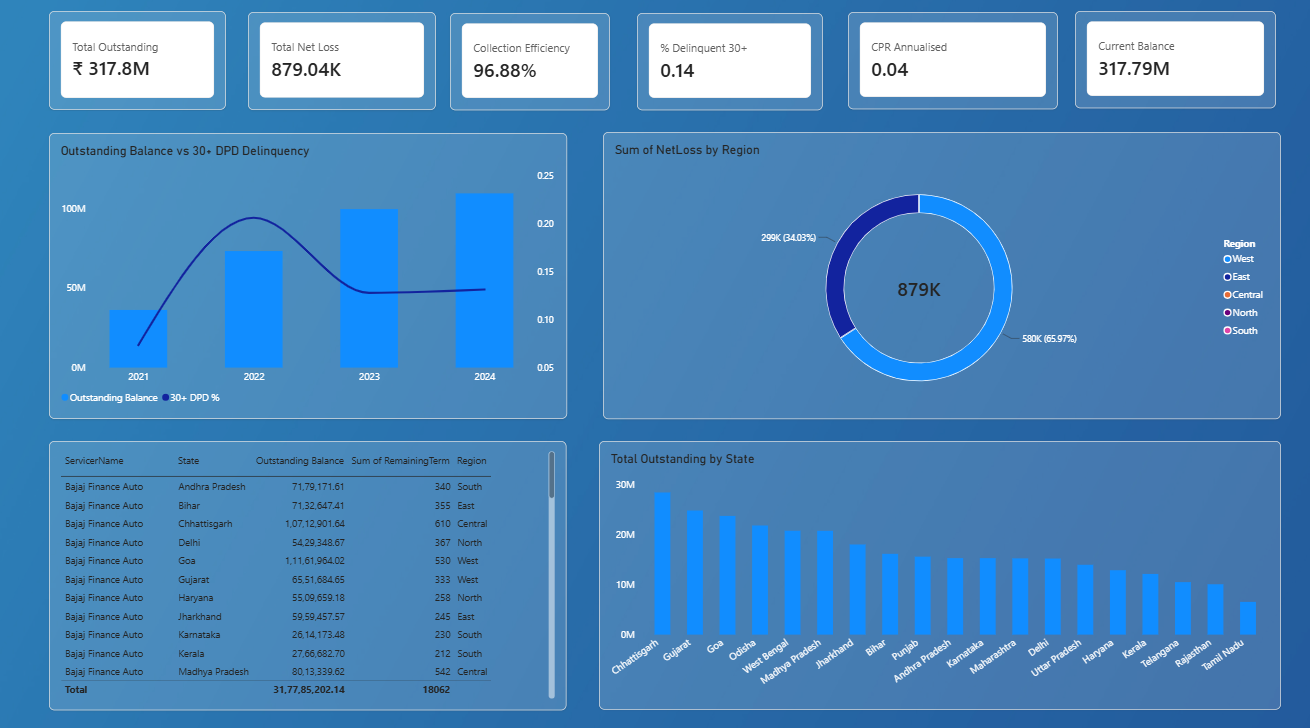

Layout of this report page (visuals, bound fields, positions):
{"tool":"powerbi","page":{"name":"Page 1","canvas":[1920,1080],"ordinal":0},"visuals":[{"type":"lineClusteredColumnComboChart","title":"Outstanding Balance vs 30+ DPD Delinquency","fields":{"Category":["auto_loan_securitisation_data.OriginationDate.Variation.Date Hierarchy.Year","auto_loan_securitisation_data.OriginationDate.Variation.Date Hierarchy.Month"],"Y":["auto_loan_securitisation_data.Outstanding Balance"],"Y2":["auto_loan_securitisation_data.30+ DPD %"]},"box":[72.9,201.3,755.7,417.3],"z":0},{"type":"cardVisual","fields":{"Data":["auto_loan_securitisation_data.Total Net Loss"]},"box":[363.3,24.8,274.3,143],"z":1000},{"type":"cardVisual","fields":{"Data":["auto_loan_securitisation_data.Total Outstanding"]},"box":[72.9,23.3,258.2,144.4],"z":2000},{"type":"cardVisual","fields":{"Data":["auto_loan_securitisation_data.Collection Efficiency"]},"box":[658,26.3,233.4,141.5],"z":3000},{"type":"cardVisual","fields":{"Data":["auto_loan_securitisation_data.% Delinquent 30+"]},"box":[930.8,26.3,271.4,141.5],"z":4000},{"type":"cardVisual","fields":{"Data":["auto_loan_securitisation_data.CPR Annualised"]},"box":[1238.7,24.8,306.4,141.5],"z":5000},{"type":"donutChart","fields":{"Category":["auto_loan_securitisation_data.Region"],"Y":["Sum(auto_loan_securitisation_data.NetLoss)"]},"box":[881.3,199.3,989.2,418.7],"z":6000},{"type":"columnChart","fields":{"Y":["auto_loan_securitisation_data.Total Outstanding"],"Category":["auto_loan_securitisation_data.State"]},"box":[875.4,650.7,995,392.5],"z":7000},{"type":"cardVisual","fields":{"Data":["Sum(auto_loan_securitisation_data.CurrentBalance)"]},"box":[1569.8,23.3,293.3,141.5],"z":8000},{"type":"tableEx","fields":{"Values":["auto_loan_securitisation_data.ServicerName","auto_loan_securitisation_data.State","auto_loan_securitisation_data.Outstanding Balance","Sum(auto_loan_securitisation_data.RemainingTerm)","auto_loan_securitisation_data.Region"]},"box":[73.4,650.5,755.4,392.7],"z":9000}]}

Visuals, with their boxes in screenshot pixels (x1, y1, x2, y2), scaled from the page's 1920x1080 canvas onto the 1310x728 screenshot:
"Outstanding Balance vs 30+ DPD Delinquency" lineClusteredColumnComboChart: Rect(50, 136, 565, 417)
cardVisual - auto_loan_securitisation_data.Total Net Loss: Rect(248, 17, 435, 113)
cardVisual - auto_loan_securitisation_data.Total Outstanding: Rect(50, 16, 226, 113)
cardVisual - auto_loan_securitisation_data.Collection Efficiency: Rect(449, 18, 608, 113)
cardVisual - auto_loan_securitisation_data.% Delinquent 30+: Rect(635, 18, 820, 113)
cardVisual - auto_loan_securitisation_data.CPR Annualised: Rect(845, 17, 1054, 112)
donutChart - auto_loan_securitisation_data.Region x Sum(auto_loan_securitisation_data.NetLoss): Rect(601, 134, 1276, 417)
columnChart - auto_loan_securitisation_data.Total Outstanding x auto_loan_securitisation_data.State: Rect(597, 439, 1276, 703)
cardVisual - Sum(auto_loan_securitisation_data.CurrentBalance): Rect(1071, 16, 1271, 111)
tableEx - auto_loan_securitisation_data.ServicerName x auto_loan_securitisation_data.State: Rect(50, 438, 565, 703)
